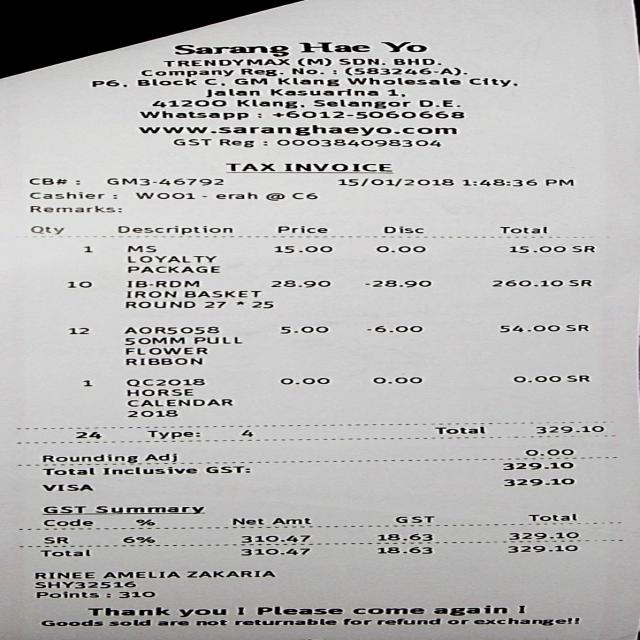text: (136, 123, 455, 137), (272, 110, 462, 119), (174, 44, 288, 57), (276, 139, 439, 147), (116, 224, 234, 235), (343, 66, 465, 76), (162, 58, 288, 67), (138, 111, 247, 120), (284, 163, 392, 172), (126, 398, 231, 407), (472, 617, 577, 626), (106, 178, 222, 186), (336, 178, 452, 186), (37, 454, 140, 463), (345, 77, 459, 85), (93, 506, 203, 514), (433, 604, 506, 616), (312, 99, 408, 108), (34, 580, 134, 588), (122, 326, 217, 334), (102, 466, 197, 474), (268, 88, 376, 95), (86, 607, 168, 616), (238, 534, 311, 544), (505, 544, 578, 554), (490, 280, 593, 287), (296, 42, 368, 52), (126, 255, 215, 263), (234, 618, 335, 625), (125, 378, 203, 387), (186, 570, 273, 578), (500, 324, 586, 332), (255, 606, 341, 614), (138, 70, 232, 77), (506, 531, 579, 540), (125, 266, 218, 273), (125, 347, 206, 355), (501, 461, 572, 470), (512, 375, 590, 383), (432, 425, 484, 437), (183, 290, 260, 298), (124, 357, 200, 365), (235, 99, 302, 108), (151, 100, 225, 108), (501, 478, 573, 486), (139, 430, 196, 440), (126, 280, 197, 288), (534, 426, 604, 434), (29, 206, 120, 212), (125, 300, 193, 308), (102, 571, 178, 578), (460, 179, 535, 186), (28, 192, 115, 198), (365, 280, 430, 288), (372, 546, 436, 554), (120, 337, 183, 345), (35, 591, 98, 599), (134, 192, 205, 199), (276, 78, 338, 86), (274, 224, 329, 233), (527, 512, 576, 522), (238, 548, 308, 555), (204, 89, 258, 98), (378, 42, 426, 52), (136, 78, 195, 86), (272, 245, 331, 253), (125, 389, 192, 396), (270, 280, 328, 288), (223, 163, 274, 172), (507, 245, 564, 253), (376, 534, 432, 542), (39, 619, 102, 626), (468, 77, 516, 86), (187, 336, 240, 344), (178, 608, 225, 617), (352, 608, 422, 614), (520, 449, 572, 457), (34, 572, 92, 579), (41, 518, 91, 526), (126, 290, 175, 298), (372, 376, 420, 384), (376, 618, 438, 624), (500, 226, 546, 234), (280, 326, 326, 334), (41, 468, 93, 475), (27, 178, 78, 185), (125, 410, 176, 417), (38, 550, 89, 557), (41, 484, 91, 491), (145, 453, 179, 463), (336, 58, 384, 65), (392, 58, 440, 65), (240, 68, 282, 76), (366, 326, 421, 332), (382, 226, 422, 234), (204, 466, 248, 473), (42, 506, 85, 513), (279, 378, 328, 384), (107, 619, 148, 626), (376, 246, 423, 252), (295, 58, 330, 66), (419, 100, 459, 107), (215, 192, 255, 199), (270, 517, 310, 524), (393, 516, 432, 523), (218, 139, 252, 147), (120, 536, 154, 544), (29, 226, 62, 234), (118, 591, 154, 598), (91, 80, 126, 87), (42, 536, 68, 545), (172, 139, 210, 145), (544, 178, 572, 186), (232, 518, 262, 525), (74, 431, 100, 439), (290, 68, 322, 74), (66, 280, 90, 288), (194, 620, 226, 626), (156, 620, 188, 626), (343, 618, 370, 625), (234, 78, 265, 84), (290, 192, 316, 199), (132, 518, 154, 526), (126, 246, 154, 252), (202, 301, 225, 308), (263, 192, 283, 200), (250, 301, 272, 308), (204, 78, 223, 86), (386, 89, 403, 97), (571, 246, 593, 252), (237, 429, 251, 438), (68, 328, 87, 334), (444, 619, 466, 624), (517, 604, 523, 614), (82, 380, 90, 386), (84, 246, 91, 252), (237, 607, 242, 615), (331, 70, 335, 74), (261, 141, 265, 145), (257, 113, 260, 118)
